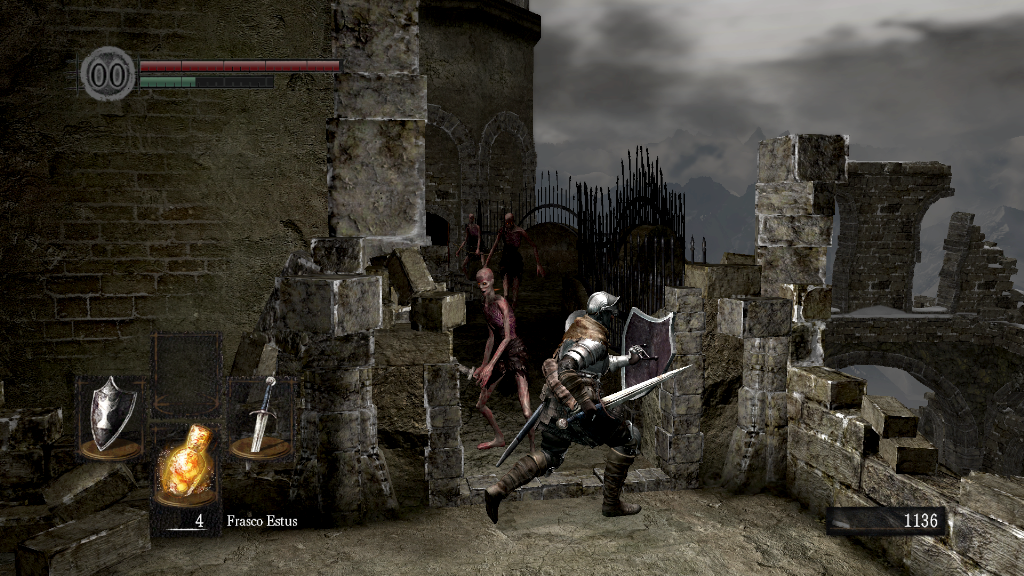health: (138, 58, 343, 71)
hollow: (475, 267, 549, 467), (479, 213, 550, 320), (457, 211, 490, 281)
humanity: (80, 45, 136, 102)
player: (485, 292, 696, 526)
souls: (825, 506, 945, 536)
stamina: (138, 74, 274, 88)
